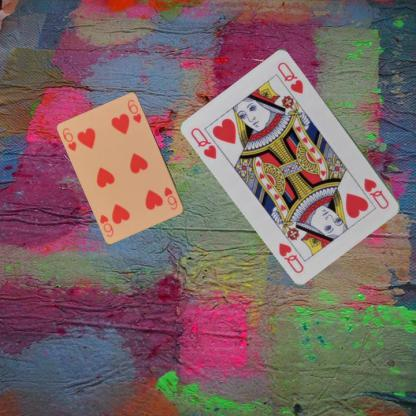6h: (60, 126, 78, 152), (162, 184, 178, 211)
Qh: (188, 124, 219, 160), (361, 176, 391, 211)
